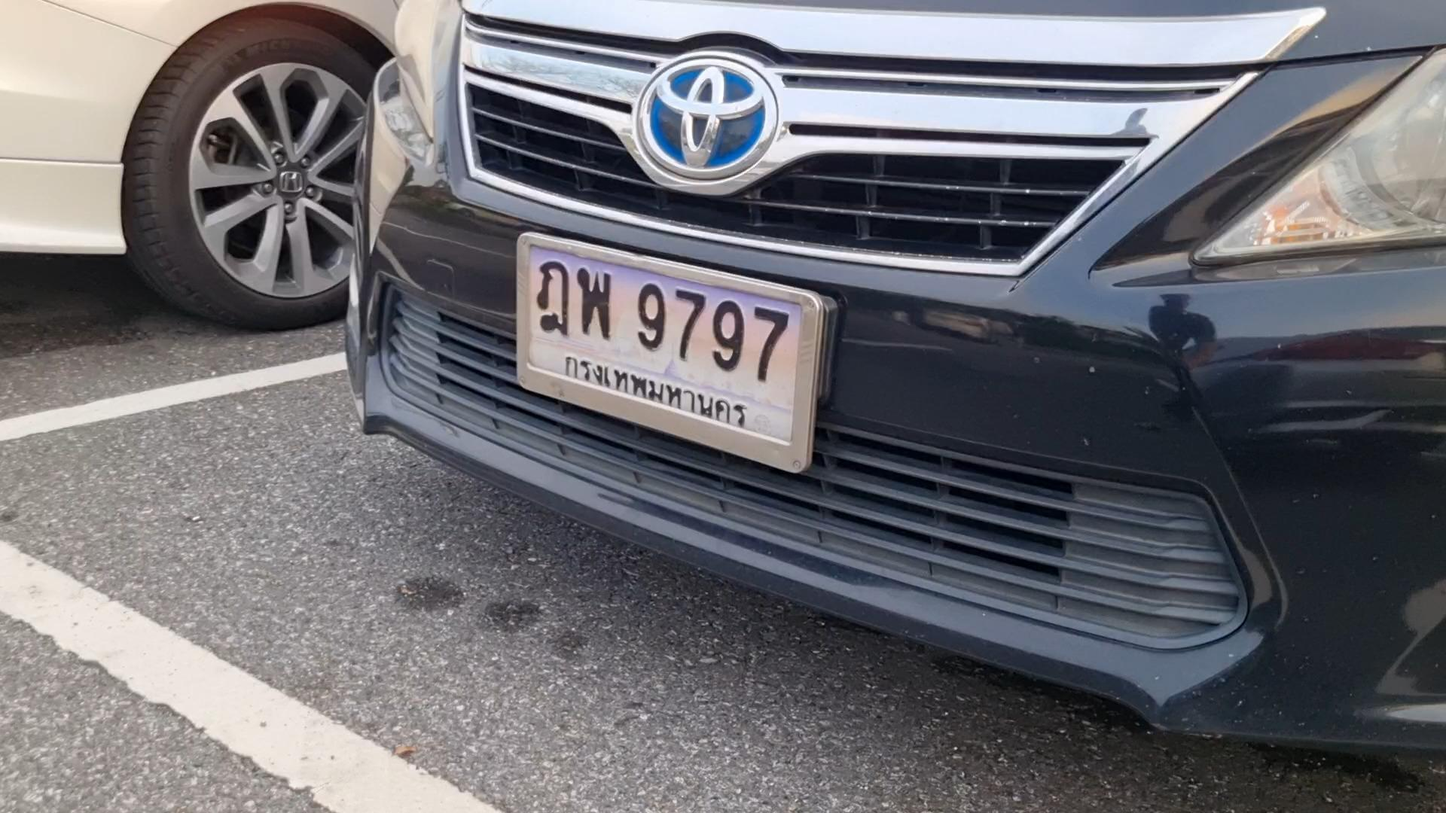license-plate: (508, 223, 827, 479)
